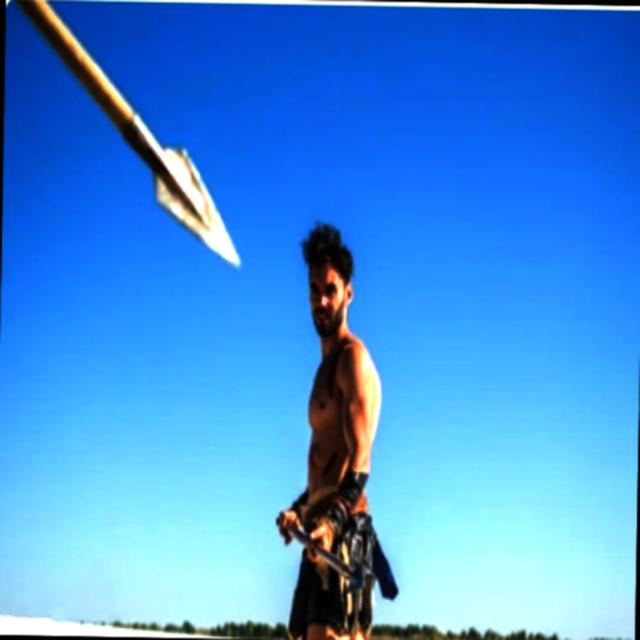spear: (0, 3, 268, 302)
